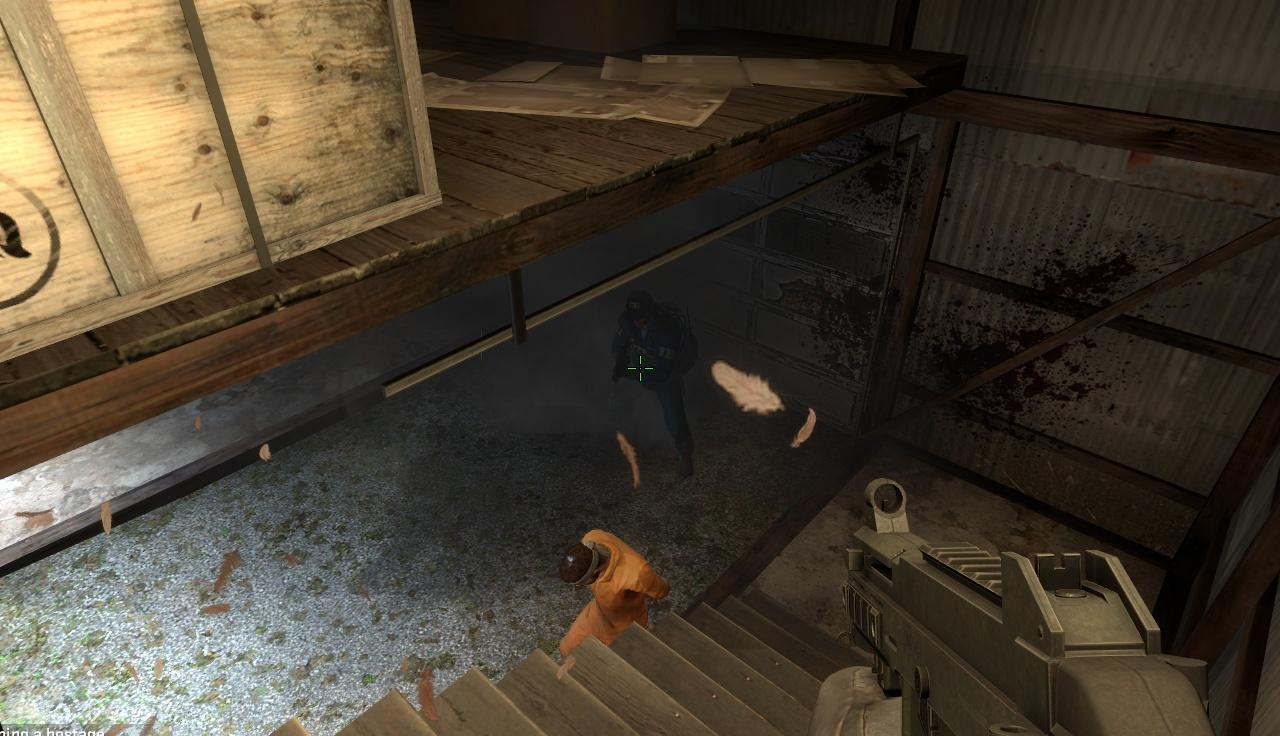ct: (609, 293, 699, 420)
cthead: (625, 292, 662, 333)
rifle: (831, 473, 1237, 736)
